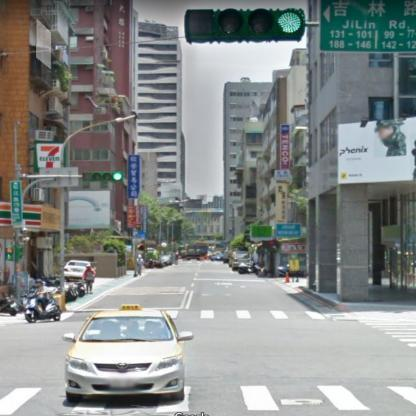Green Light: (184, 9, 304, 40), (81, 170, 124, 180)
